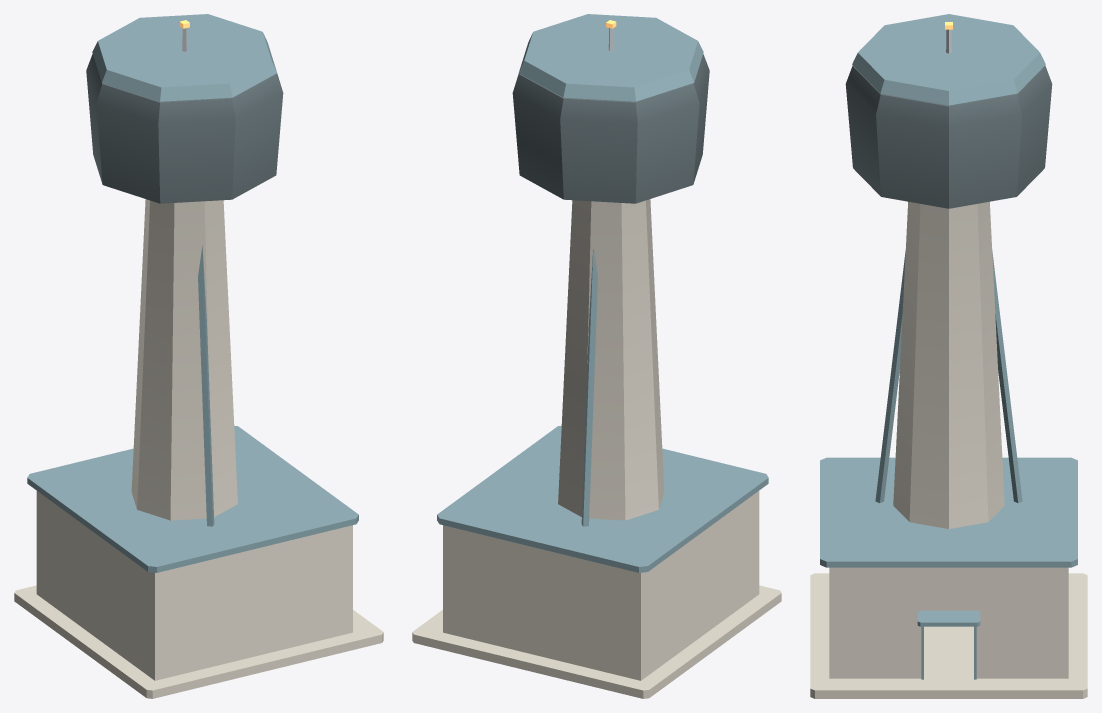
Rendered from Spaceport_ControlTower_v4_ShadowProxy.glb.
3 views of the same model, side by side, from view 1: azimuth 30°, elevation 25°; view 2: azimuth 150°, elevation 25°; view 3: azimuth 270°, elevation 25° (orthographic).
Parts seen in each view (by area): view 1: Spaceport_ControlTower_v4_ShadowProxy / Structure, Spaceport_ControlTower_v4_ShadowProxy / Control deck, Spaceport_ControlTower_v4_ShadowProxy / Tower, Spaceport_ControlTower_v4_ShadowProxy / Equipment deck, Spaceport_ControlTower_v4_ShadowProxy / Foundation; view 2: Spaceport_ControlTower_v4_ShadowProxy / Structure, Spaceport_ControlTower_v4_ShadowProxy / Control deck, Spaceport_ControlTower_v4_ShadowProxy / Tower, Spaceport_ControlTower_v4_ShadowProxy / Equipment deck, Spaceport_ControlTower_v4_ShadowProxy / Foundation; view 3: Spaceport_ControlTower_v4_ShadowProxy / Tower, Spaceport_ControlTower_v4_ShadowProxy / Control deck, Spaceport_ControlTower_v4_ShadowProxy / Structure, Spaceport_ControlTower_v4_ShadowProxy / Equipment deck, Spaceport_ControlTower_v4_ShadowProxy / Foundation, Spaceport_ControlTower_v4_ShadowProxy / Entrance modules.
Boxes of the visible parts, box(x1,y1,x2,y2) form: Spaceport_ControlTower_v4_ShadowProxy / Structure: box(36, 491, 352, 680); Spaceport_ControlTower_v4_ShadowProxy / Control deck: box(86, 14, 283, 203); Spaceport_ControlTower_v4_ShadowProxy / Tower: box(131, 199, 237, 526); Spaceport_ControlTower_v4_ShadowProxy / Equipment deck: box(27, 426, 358, 572); Spaceport_ControlTower_v4_ShadowProxy / Foundation: box(14, 585, 383, 698); Spaceport_ControlTower_v4_ShadowProxy / Structure: box(443, 491, 759, 680); Spaceport_ControlTower_v4_ShadowProxy / Control deck: box(512, 14, 709, 203); Spaceport_ControlTower_v4_ShadowProxy / Tower: box(558, 199, 664, 526); Spaceport_ControlTower_v4_ShadowProxy / Equipment deck: box(437, 426, 768, 572); Spaceport_ControlTower_v4_ShadowProxy / Foundation: box(412, 585, 781, 698); Spaceport_ControlTower_v4_ShadowProxy / Tower: box(875, 201, 1022, 528); Spaceport_ControlTower_v4_ShadowProxy / Control deck: box(845, 14, 1052, 208); Spaceport_ControlTower_v4_ShadowProxy / Structure: box(829, 567, 1068, 678); Spaceport_ControlTower_v4_ShadowProxy / Equipment deck: box(820, 457, 1077, 567); Spaceport_ControlTower_v4_ShadowProxy / Foundation: box(810, 573, 1087, 698); Spaceport_ControlTower_v4_ShadowProxy / Entrance modules: box(917, 610, 980, 694).
Bounding box in the file's own units: 10 × 24.28 × 10.
